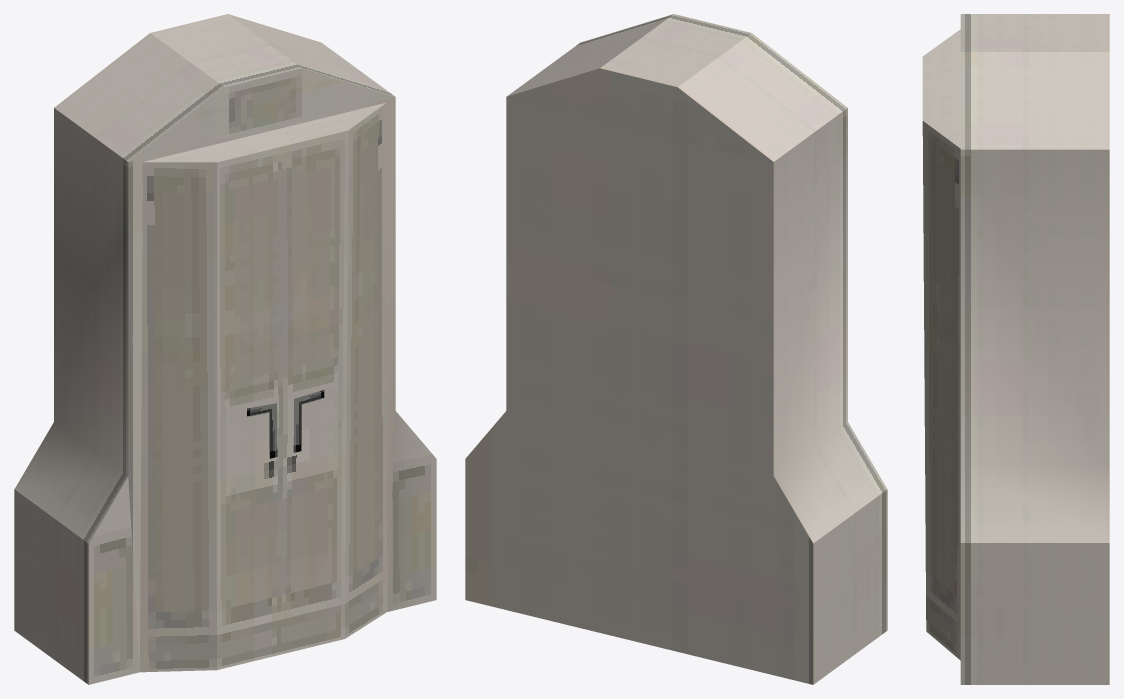
Rendered from frn_all_eleg_armoire_s01_l2.fbx.
The picture shows the model from 3 angles, left to right: view 1: azimuth 30°, elevation 25°; view 2: azimuth 150°, elevation 25°; view 3: azimuth 270°, elevation 25°; orthographic projection.
Parts seen in each view (by area): view 1: mesh_node; view 2: mesh_node; view 3: mesh_node.
Part boxes in pixels (x1,y1,x2,y2): mesh_node: (14,14,436,684); mesh_node: (465,14,887,684); mesh_node: (922,14,1109,684).
Size of the model in its own units: 1.16 by 1.8 by 0.5567.
